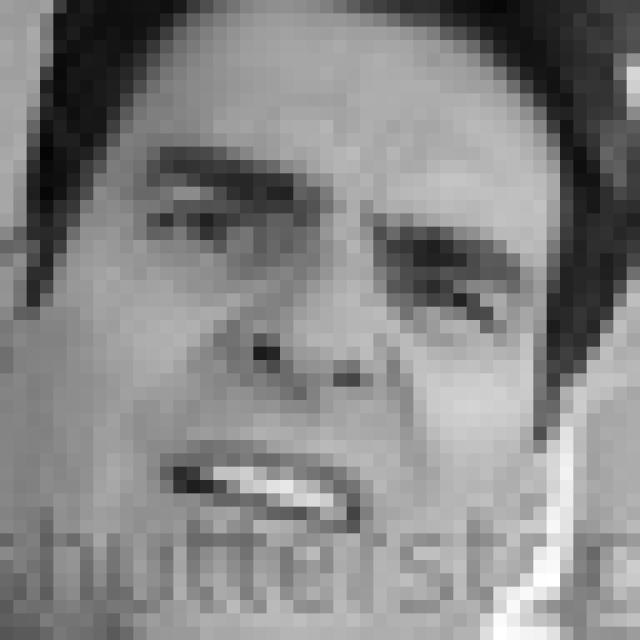disgust: (114, 137, 531, 570)
